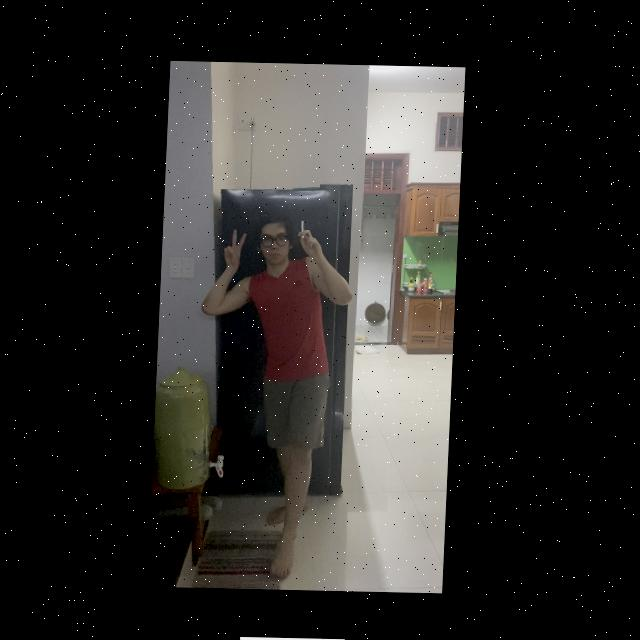cigarette: (303, 220, 306, 233)
